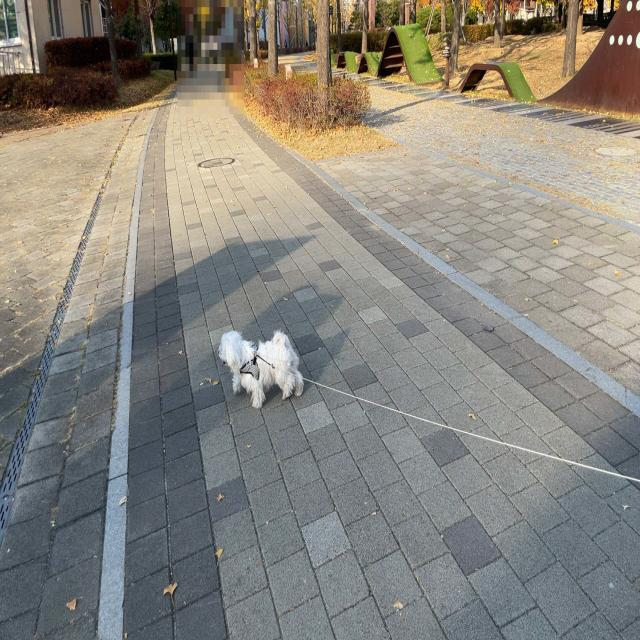Dog: (217, 328, 305, 410)
